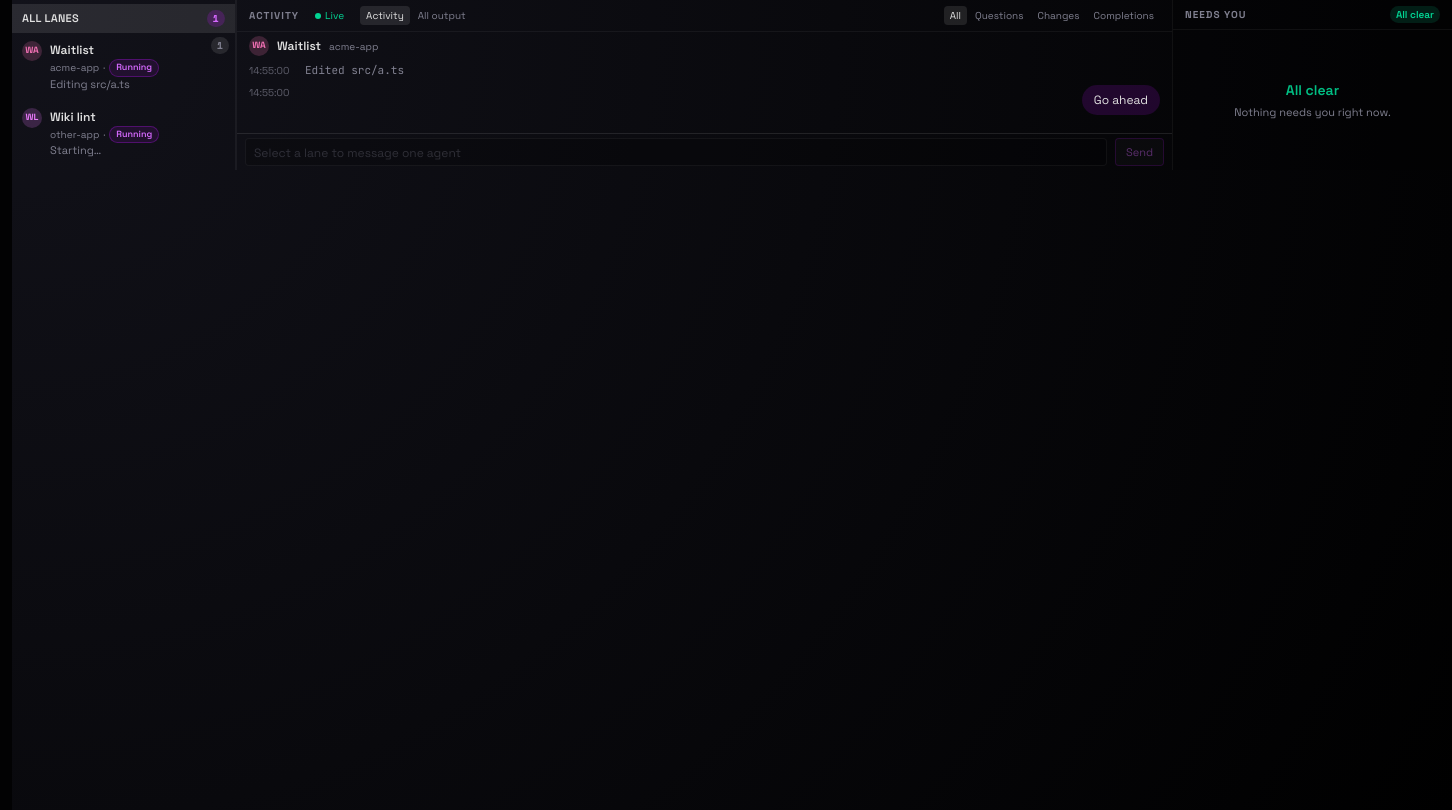
Test: ActivityFeed tiers › shows sent rows only under the All filter
Expected: the text "Go ahead" is shown, [1082,84,1160,114]
Click the button "Changes": coordinates (1058, 16) [1032,6,1086,25]
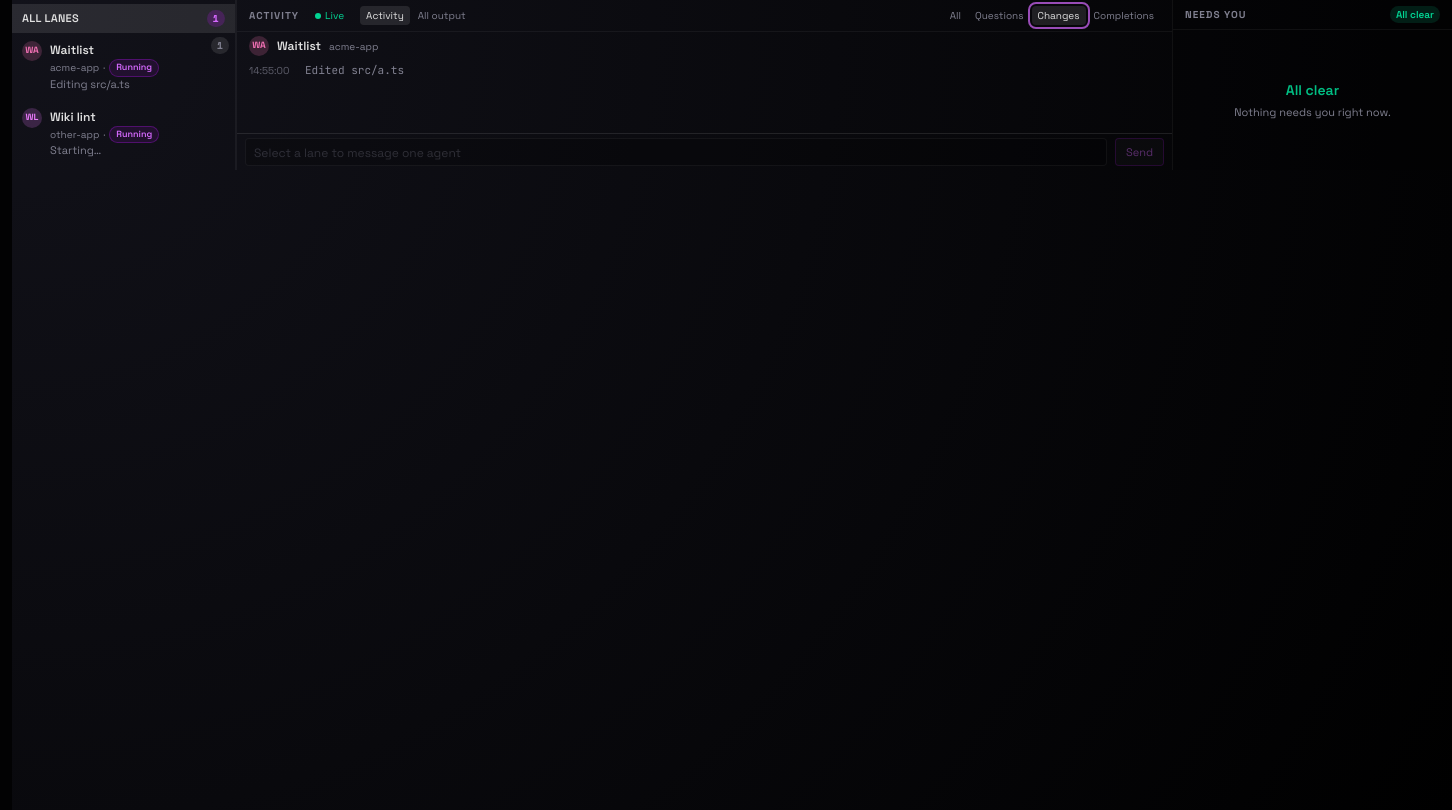
Expected: the text "Go ahead" is gone
